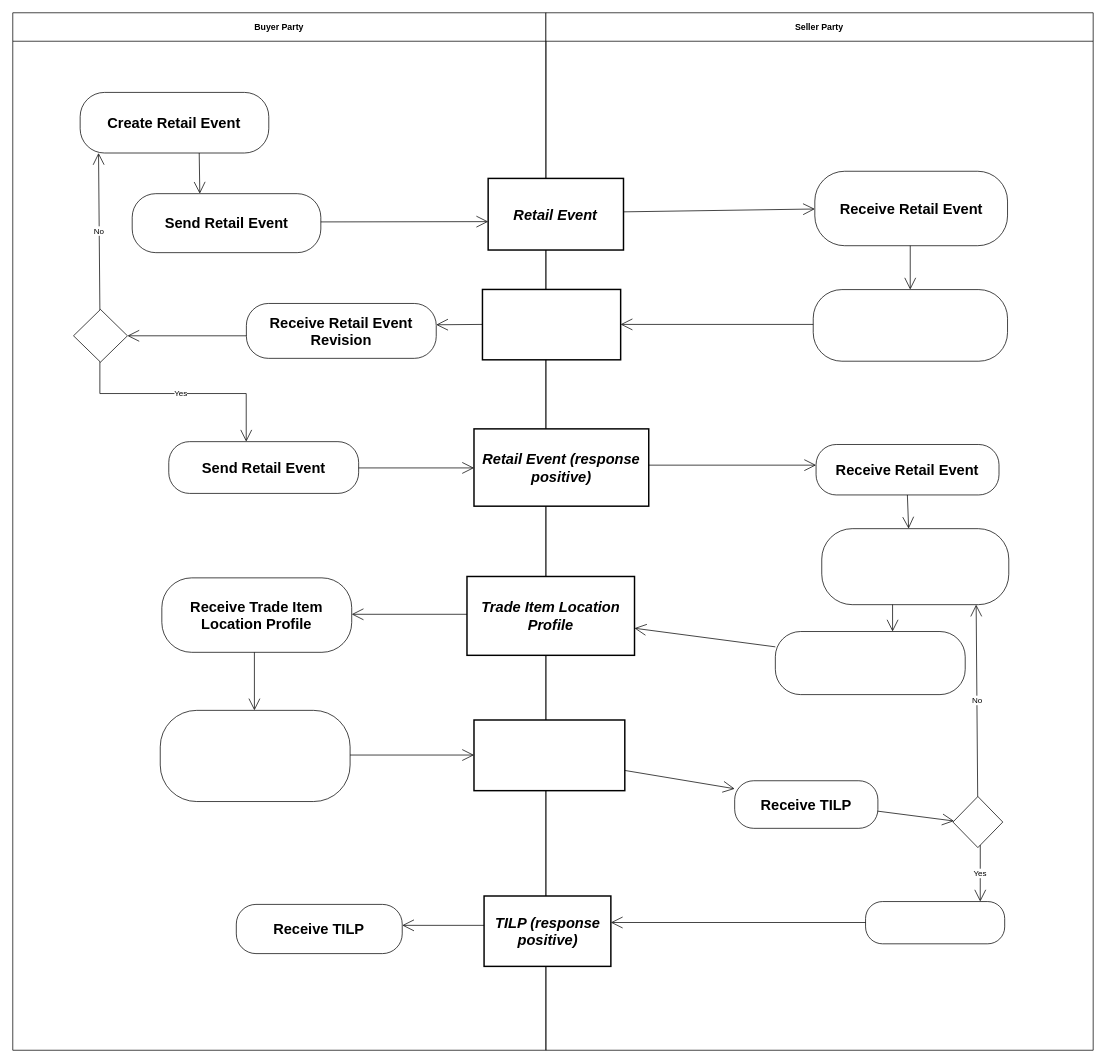
Some shapes in this 1106 by 1064 pixel diagram are drawn without their labels. Each missing label, with the centre of its shape:
Create Trade Item Location Profile: (x=915, y=566)
Retail Event (revision): (x=551, y=324)
Revise Retail Event and Send Revision: (x=910, y=325)
Revise Trade Item Location Profile and Send Revision: (x=255, y=756)
Send TILP: (x=935, y=922)
Send Trade Item Location Profile: (x=870, y=663)
Trade Item Location Profile (revision): (x=549, y=755)
